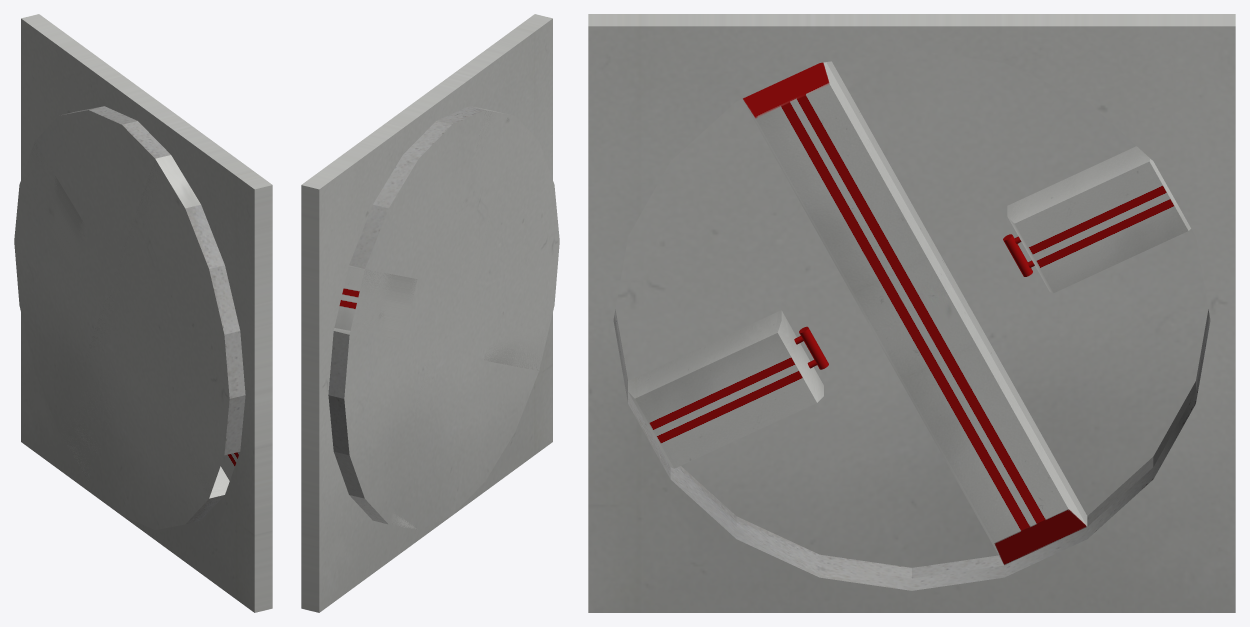
File: Doorway.fbx
3 views of the same model, side by side, from view 1: azimuth 30°, elevation 25°; view 2: azimuth 150°, elevation 25°; view 3: azimuth 270°, elevation 25° (orthographic). The views are drawn at different scales.
Visible parts, largest first — view 1: polySurface4; view 2: polySurface4; view 3: polySurface4.
Part boxes in pixels (x1,y1,x2,y2): polySurface4: (14,14,272,612); polySurface4: (301,14,559,612); polySurface4: (588,14,1235,612).
Bounding box in the file's own units: 0.6729 × 8 × 8.
